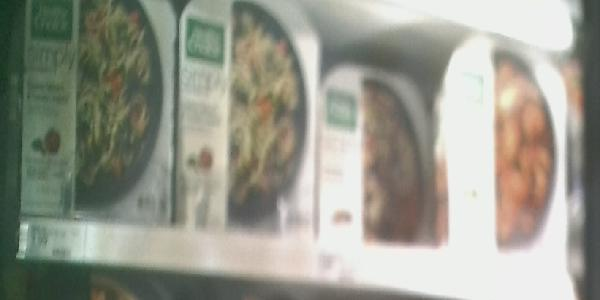pizza1: (180, 3, 316, 240), (25, 2, 171, 221), (457, 40, 569, 255)
